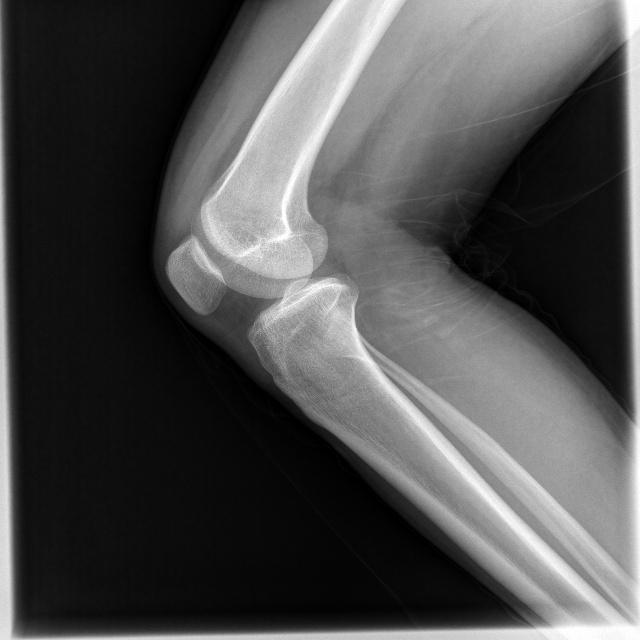Knee: (162, 200, 371, 363)
